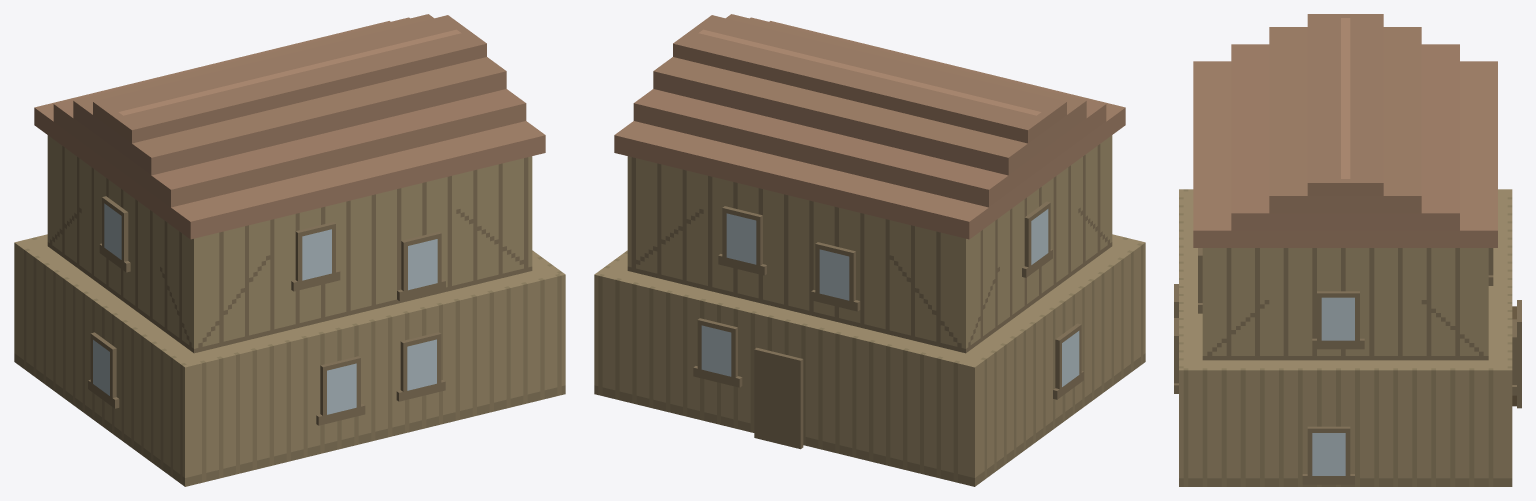
Rendered from casa_modesta_02.glb.
The picture shows the model from 3 angles, left to right: view 1: azimuth 30°, elevation 25°; view 2: azimuth 150°, elevation 25°; view 3: azimuth 270°, elevation 25°; orthographic projection. The views are drawn at different scales.
Visible parts, largest first — view 1: casa_modesta_02; view 2: casa_modesta_02; view 3: casa_modesta_02.
Boxes of the visible parts, bbox=[...] form: casa_modesta_02: bbox=[14, 14, 565, 486]; casa_modesta_02: bbox=[594, 14, 1145, 486]; casa_modesta_02: bbox=[1174, 14, 1521, 486].
Size of the model in its own units: 9.2 by 6.9 by 7.3.
